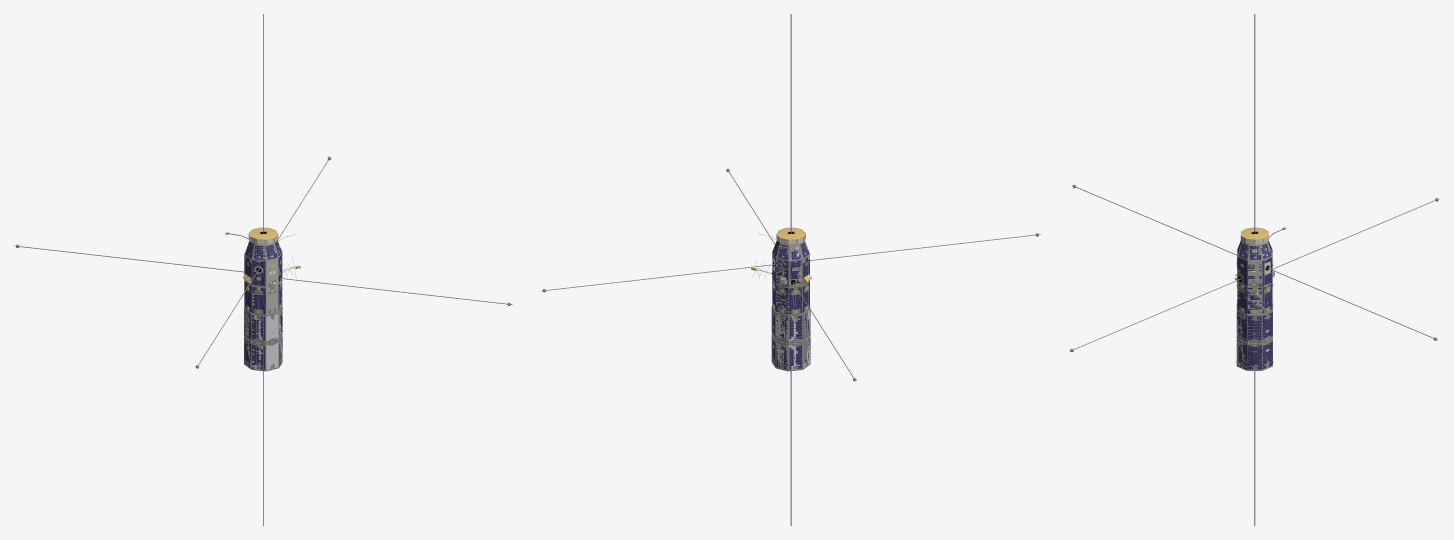
The model's file is communication-and-navigation-outage-forecast-sys.glb.
3 renders of one model, left to right at view 1: azimuth 30°, elevation 25°; view 2: azimuth 150°, elevation 25°; view 3: azimuth 270°, elevation 25°, orthographic.
Visible parts, largest first — view 1: mesh_0; view 2: mesh_0; view 3: mesh_0.
Boxes of the visible parts, x1,y1,x2,y2 form: mesh_0: (14,14,512,525); mesh_0: (541,14,1040,525); mesh_0: (1069,14,1439,525).
Bounding box in the file's own units: 95.79 × 148 × 96.85.
1 material, 1 textured.
